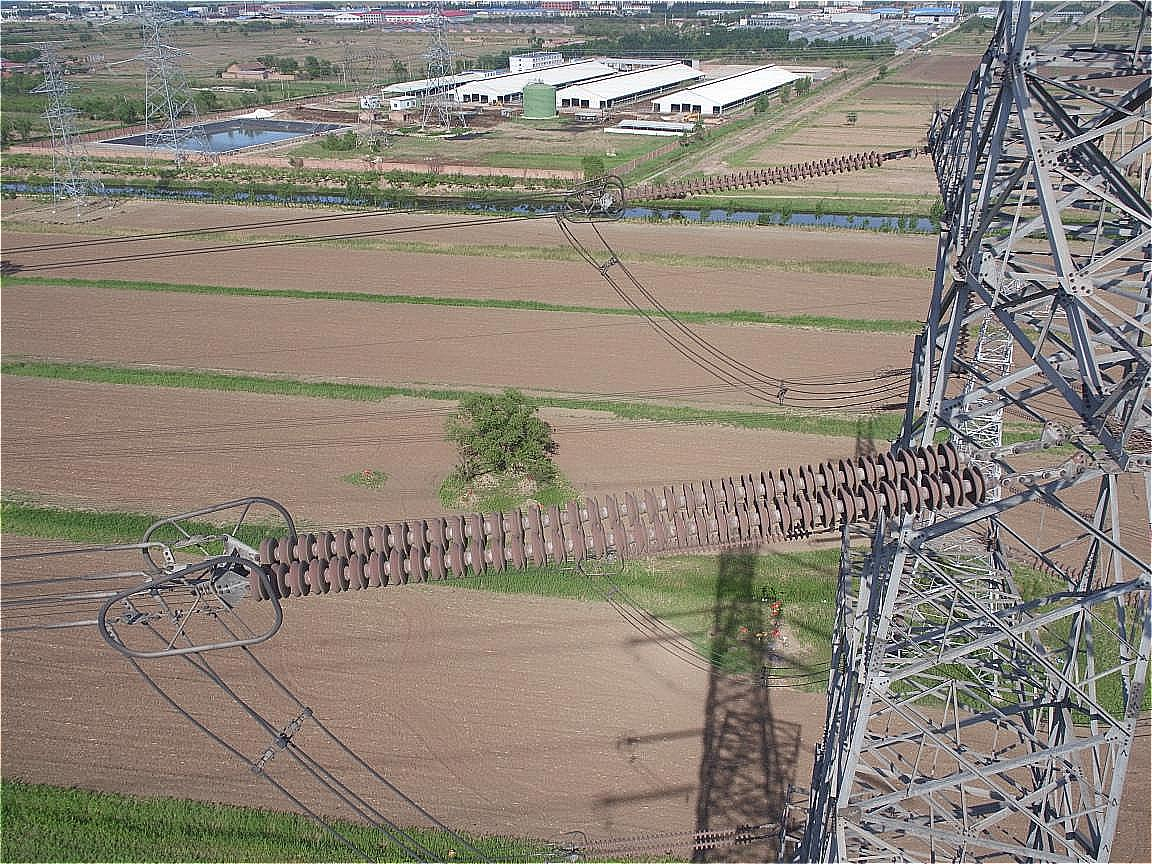insultor2: (223, 439, 1014, 626)
